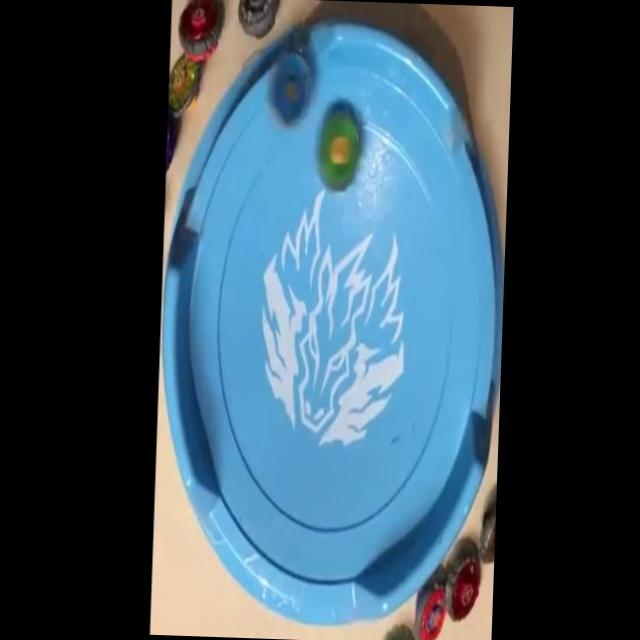Beyblade: (266, 49, 314, 130), (316, 111, 361, 193), (177, 0, 225, 60), (444, 554, 482, 624), (167, 52, 200, 116), (412, 583, 447, 640)
